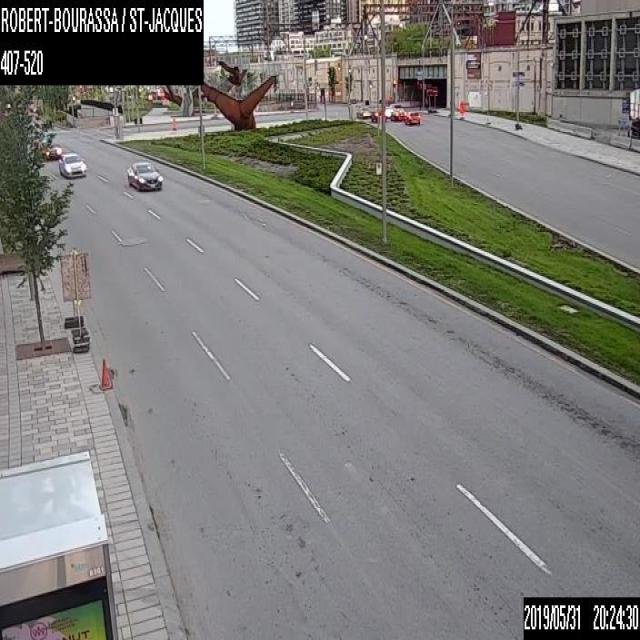construction: (100, 358, 110, 390), (458, 100, 465, 119)
vehicle: (125, 157, 163, 191), (58, 152, 86, 178), (43, 144, 60, 159), (355, 104, 373, 116), (405, 110, 420, 124), (389, 103, 403, 115), (371, 111, 386, 120), (383, 105, 392, 116)
